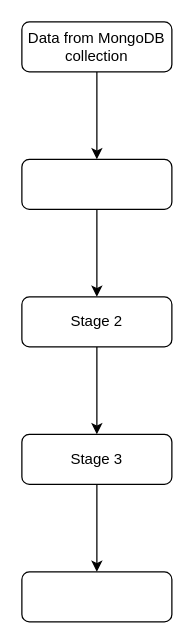
Image size: 194x644. Some labels were removed from this diagram. Each missing label, with the centre of its shape:
"Output" belongs at (96,596).
"Stage 1" belongs at (96,183).
